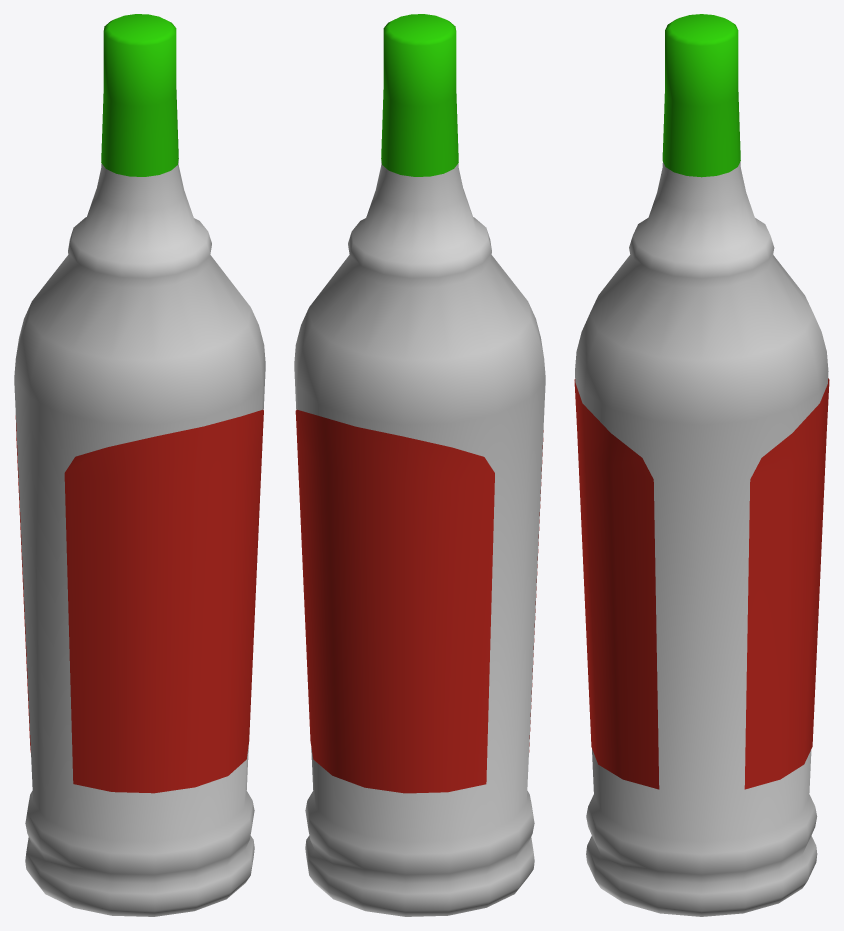
Rendered from BHP_MOD_BOT_Coffee_liqueur.fbx.
3 renders of one model, left to right at view 1: azimuth 30°, elevation 25°; view 2: azimuth 150°, elevation 25°; view 3: azimuth 270°, elevation 25°, orthographic.
Visible parts, largest first — view 1: BHP_MOD_Bottle_Coffee_liqueur; view 2: BHP_MOD_Bottle_Coffee_liqueur; view 3: BHP_MOD_Bottle_Coffee_liqueur.
Part boxes in pixels (x1,y1,x2,y2): BHP_MOD_Bottle_Coffee_liqueur: (14,14,265,916); BHP_MOD_Bottle_Coffee_liqueur: (294,14,545,916); BHP_MOD_Bottle_Coffee_liqueur: (574,14,829,916).
Bounding box in the file's own units: 0.0953 × 0.3496 × 0.0958.
